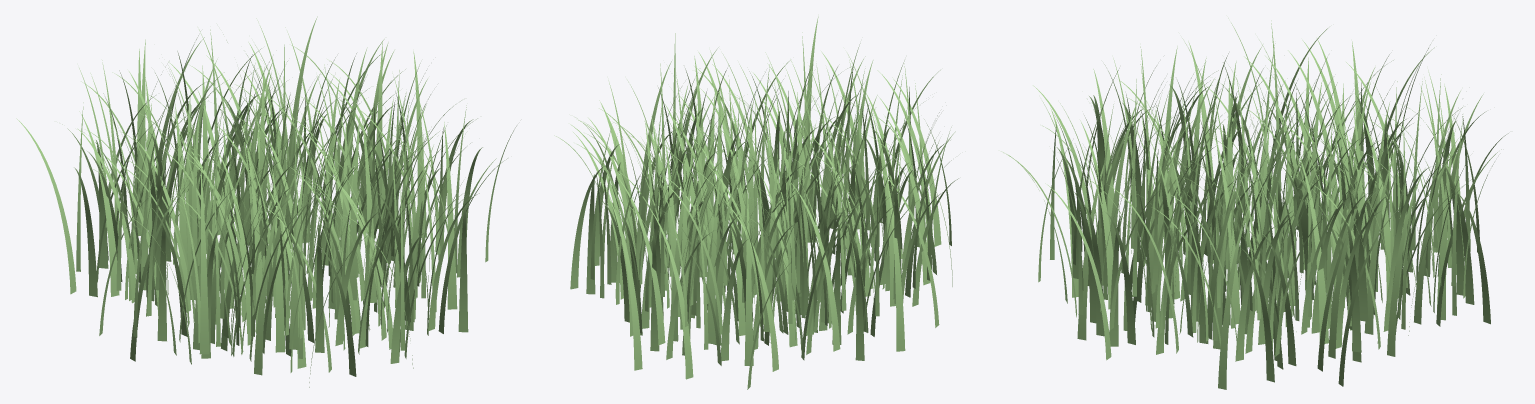
File: gras.fbx
The picture shows the model from 3 angles, left to right: view 1: azimuth 30°, elevation 25°; view 2: azimuth 150°, elevation 25°; view 3: azimuth 270°, elevation 25°; orthographic projection. The views are drawn at different scales.
Visible parts, largest first — view 1: grass; view 2: grass; view 3: grass.
Boxes of the visible parts, x1,y1,x2,y2 form: grass: (16, 16, 516, 387); grass: (554, 16, 958, 389); grass: (1001, 18, 1508, 389).
Bounding box in the file's own units: 92.57 × 52.68 × 108.
